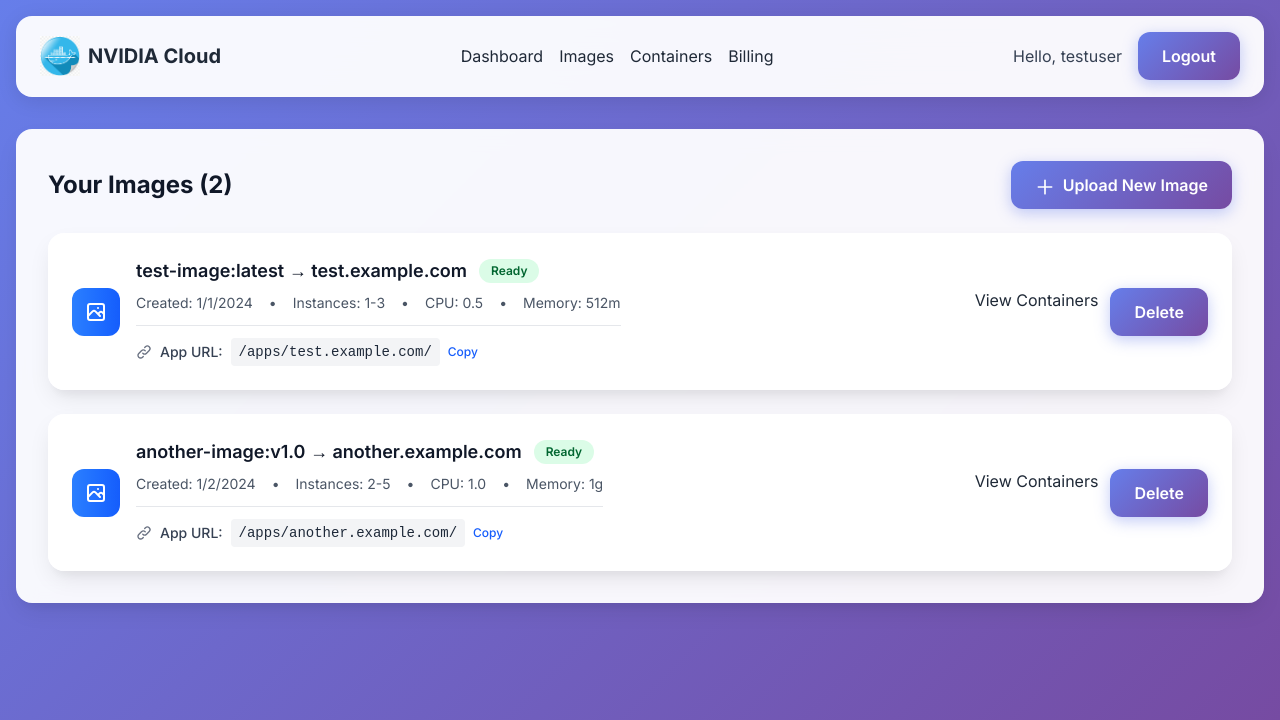
it: ImagesPage › Delete Image › should show error when delete fails
Expected: the text "test-image:latest → test.example.com" is shown, [136,260,467,281]
Click the button "Delete" in the row of "512m". click: (1159,312)
box: [1110,288,1208,336]
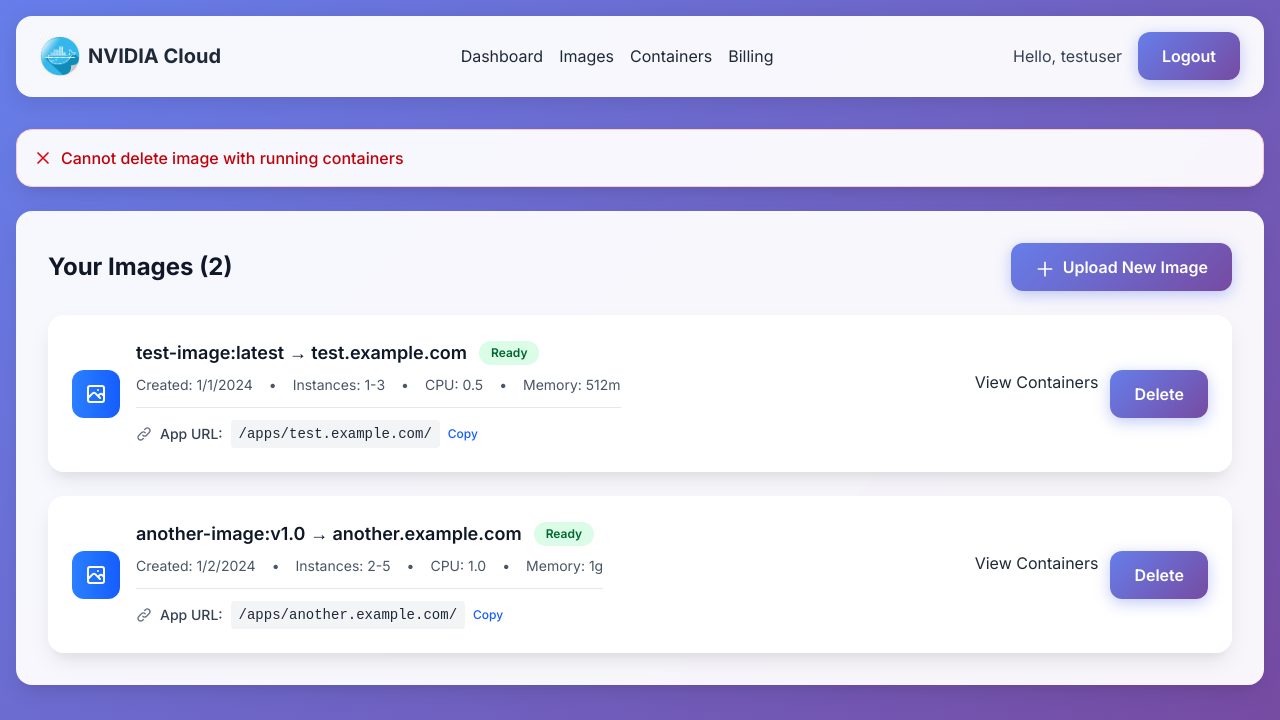
Result: the text "Cannot delete image with running containers" is shown at [61,146,404,170]
